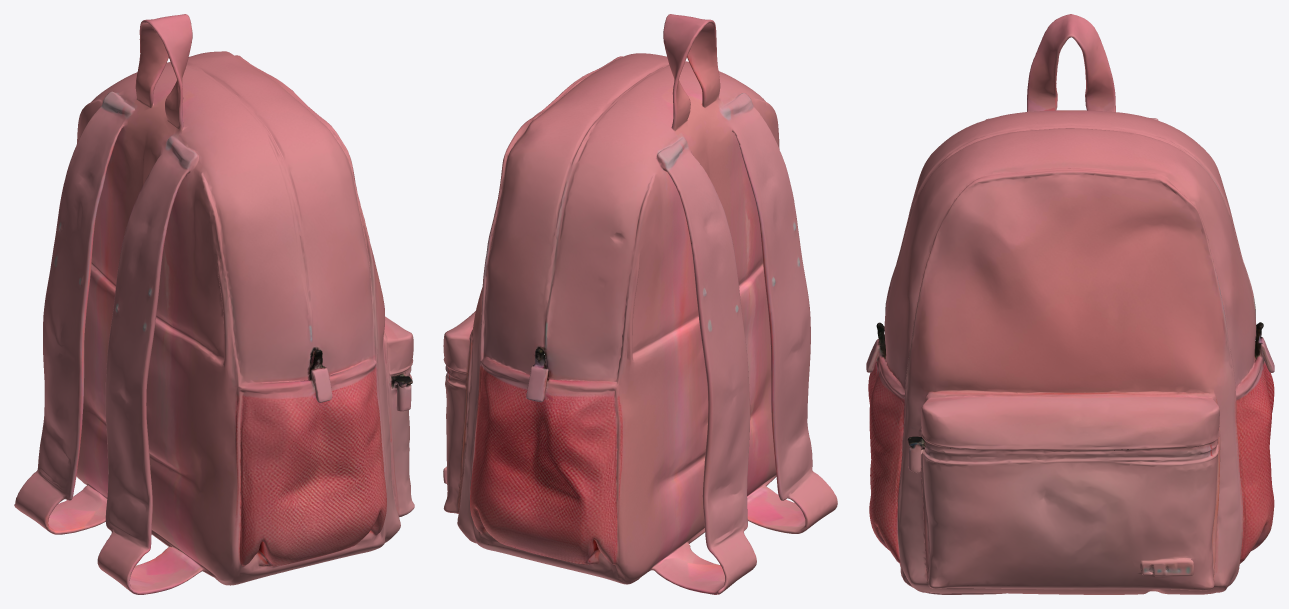
File: tripo_pbr_model_6785bbee-ef6f-4500-b14a-8d9e7e9e4d96.glb
3 views of the same model, side by side, from view 1: azimuth 30°, elevation 25°; view 2: azimuth 150°, elevation 25°; view 3: azimuth 270°, elevation 25° (orthographic).
Visible parts, largest first — view 1: tripo_node_6785bbee-ef6f-4500-b14a-8d9e7e9e4d96; view 2: tripo_node_6785bbee-ef6f-4500-b14a-8d9e7e9e4d96; view 3: tripo_node_6785bbee-ef6f-4500-b14a-8d9e7e9e4d96.
Part boxes in pixels (box(x1,y1,x2,y2)): tripo_node_6785bbee-ef6f-4500-b14a-8d9e7e9e4d96: box(14, 14, 414, 594); tripo_node_6785bbee-ef6f-4500-b14a-8d9e7e9e4d96: box(443, 14, 837, 594); tripo_node_6785bbee-ef6f-4500-b14a-8d9e7e9e4d96: box(866, 14, 1274, 594).
Size of the model in its own units: 0.5823 by 1 by 0.7166.
1 material, 1 textured.
